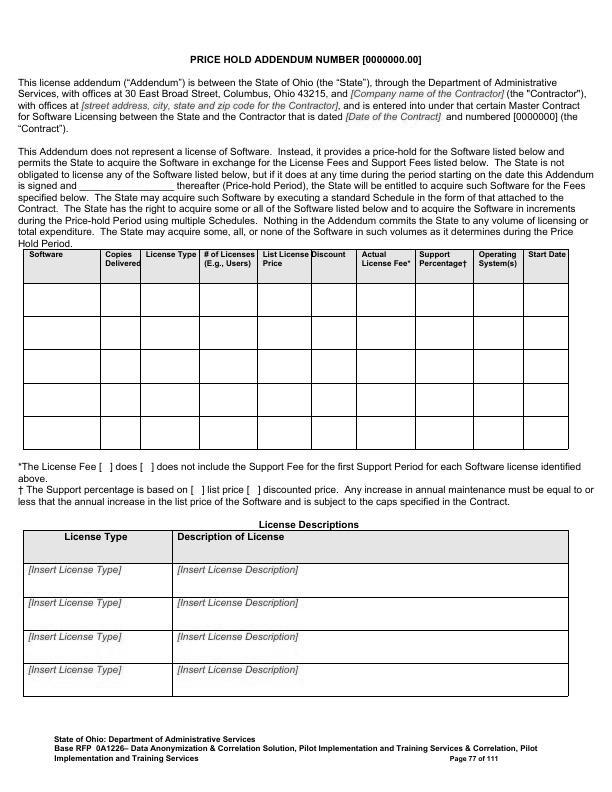input: (76, 184, 174, 192)
table: (20, 248, 572, 453), (19, 527, 576, 703)
text: (13, 52, 587, 137), (10, 193, 594, 248), (13, 458, 604, 507), (16, 143, 595, 182), (50, 730, 542, 771), (179, 177, 589, 193), (254, 515, 363, 527), (16, 182, 72, 192)
